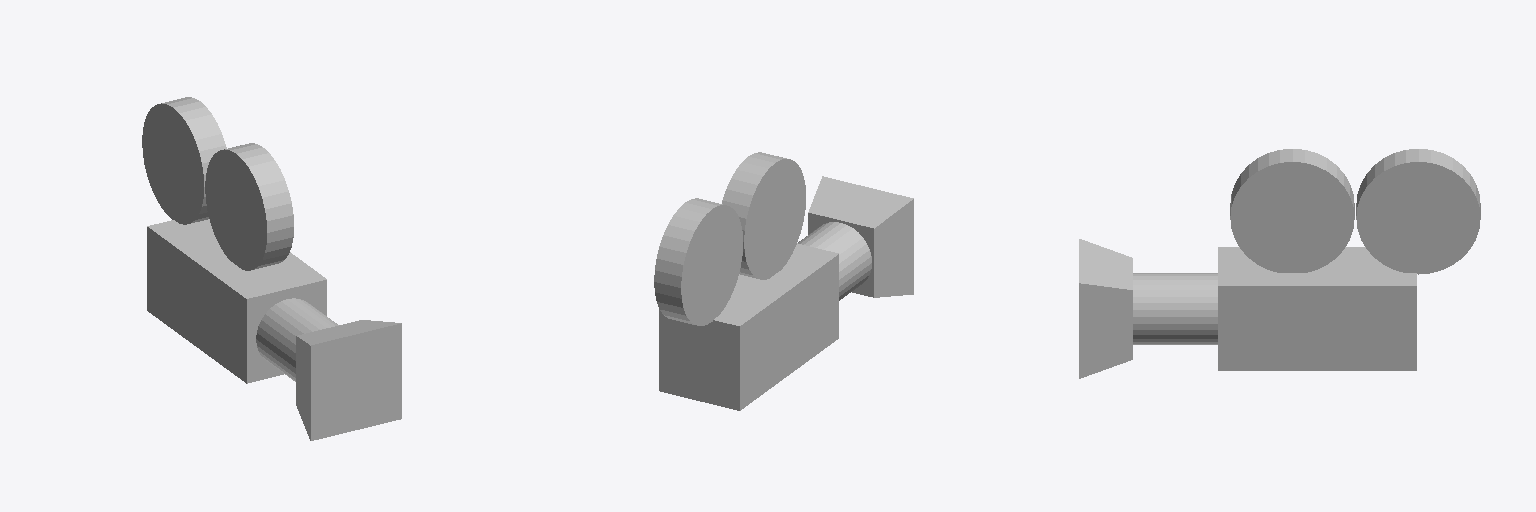
Rendered from camera.obj.
3 renders of one model, left to right at view 1: azimuth 30°, elevation 25°; view 2: azimuth 150°, elevation 25°; view 3: azimuth 270°, elevation 25°, orthographic.
Parts seen in each view (by area): view 1: Cube.001, Cube, Cylinder.002, Cylinder.001, Cylinder; view 2: Cube.001, Cylinder.001, Cylinder.002, Cube, Cylinder; view 3: Cube.001, Cylinder.001, Cylinder.002, Cube, Cylinder.
Part boxes in pixels (bbox=[...]): Cube.001: bbox=[147, 219, 326, 383]; Cube: bbox=[296, 320, 401, 440]; Cylinder.002: bbox=[205, 143, 293, 270]; Cylinder.001: bbox=[142, 97, 226, 224]; Cylinder: bbox=[256, 298, 338, 381]; Cube.001: bbox=[659, 243, 838, 410]; Cylinder.001: bbox=[654, 198, 742, 325]; Cylinder.002: bbox=[722, 152, 805, 279]; Cube: bbox=[808, 176, 913, 297]; Cylinder: bbox=[798, 222, 871, 300]; Cube.001: bbox=[1218, 247, 1416, 370]; Cylinder.001: bbox=[1356, 149, 1480, 274]; Cylinder.002: bbox=[1230, 149, 1354, 272]; Cube: bbox=[1079, 239, 1132, 378]; Cylinder: bbox=[1133, 273, 1217, 344].
Size of the model in its own units: 0.6806 by 1.43 by 2.58.